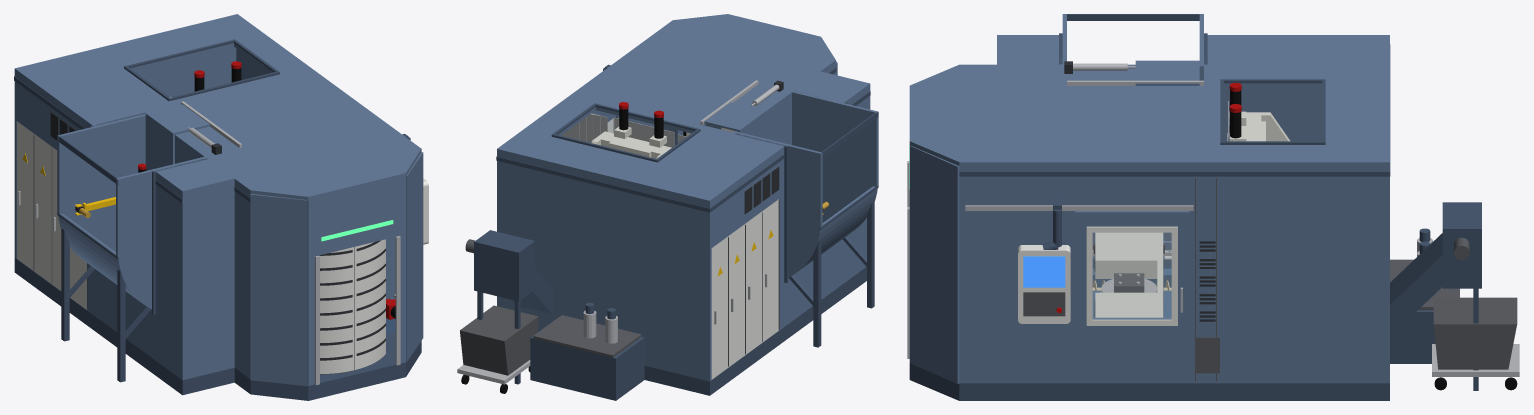
File: clock800evo_fms_4ax_blue.glb
3 views of the same model, side by side, from view 1: azimuth 30°, elevation 25°; view 2: azimuth 150°, elevation 25°; view 3: azimuth 270°, elevation 25° (orthographic). The views are drawn at different scales.
Visible parts, largest first — view 1: enclosure__mcm_blue, apc_housing__mcm_blue, tc_box__mcm_blue, electrical_cabinet__evo_white, enclosure__mcm_blue_dk, apc_door_left__evo_white, apc_housing__mcm_blue_dk, apc_door_right__evo_white, tc_box__mcm_blue_dk, tc_door__mcm_blue, apc_housing__steel, apc_door_left__anthracite (+5 smaller); view 2: enclosure__mcm_blue, tc_box__mcm_blue, chip_coolant__mcm_blue_dk, electrical_cabinet__evo_white, enclosure__mcm_blue_dk, apc_housing__mcm_blue, chip_cart__steel_dark, tc_box__mcm_blue_dk, chip_coolant__anthracite_lt, tc_door__mcm_blue, column__struct_grey, enclosure__anthracite (+6 smaller); view 3: enclosure__mcm_blue, apc_housing__mcm_blue, enclosure__mcm_blue_dk, chip_coolant__mcm_blue_dk, operator_door__glass_clear, operator_door__mcm_blue, chip_cart__steel_dark, table__struct_grey, operator_door__evo_white, enclosure__steel, cnc_panel__evo_white, apc_housing__mcm_blue_dk (+13 smaller).
Part boxes in pixels (x1=…): enclosure__mcm_blue: x1=14, y1=14, x2=404, y2=380; apc_housing__mcm_blue: x1=234, y1=137, x2=423, y2=386; tc_box__mcm_blue: x1=57, y1=114, x2=205, y2=309; electrical_cabinet__evo_white: x1=17, y1=121, x2=87, y2=309; enclosure__mcm_blue_dk: x1=14, y1=39, x2=279, y2=395; apc_door_left__evo_white: x1=320, y1=247, x2=354, y2=373; apc_housing__mcm_blue_dk: x1=234, y1=187, x2=421, y2=400; apc_door_right__evo_white: x1=354, y1=239, x2=385, y2=369; tc_box__mcm_blue_dk: x1=57, y1=135, x2=151, y2=382; tc_door__mcm_blue: x1=145, y1=104, x2=210, y2=170; apc_housing__steel: x1=315, y1=236, x2=400, y2=385; apc_door_left__anthracite: x1=319, y1=250, x2=352, y2=360; enclosure__mcm_blue: x1=497, y1=31, x2=870, y2=381; tc_box__mcm_blue: x1=736, y1=91, x2=878, y2=277; chip_coolant__mcm_blue_dk: x1=474, y1=230, x2=644, y2=400; electrical_cabinet__evo_white: x1=711, y1=199, x2=778, y2=379; enclosure__mcm_blue_dk: x1=496, y1=91, x2=870, y2=395; apc_housing__mcm_blue: x1=657, y1=14, x2=837, y2=135; chip_cart__steel_dark: x1=460, y1=305, x2=538, y2=375; tc_box__mcm_blue_dk: x1=789, y1=112, x2=878, y2=347; chip_coolant__anthracite_lt: x1=533, y1=315, x2=641, y2=357; tc_door__mcm_blue: x1=704, y1=102, x2=766, y2=138; column__struct_grey: x1=591, y1=126, x2=671, y2=158; enclosure__anthracite: x1=744, y1=80, x2=783, y2=214; enclosure__mcm_blue: x1=997, y1=35, x2=1389, y2=383; apc_housing__mcm_blue: x1=909, y1=64, x2=996, y2=383; enclosure__mcm_blue_dk: x1=997, y1=33, x2=1390, y2=400; chip_coolant__mcm_blue_dk: x1=1390, y1=202, x2=1481, y2=390; operator_door__glass_clear: x1=1093, y1=233, x2=1170, y2=318; operator_door__mcm_blue: x1=1075, y1=211, x2=1189, y2=339; chip_cart__steel_dark: x1=1433, y1=297, x2=1517, y2=369; table__struct_grey: x1=1095, y1=232, x2=1163, y2=317; operator_door__evo_white: x1=1086, y1=226, x2=1177, y2=325; enclosure__steel: x1=965, y1=63, x2=1203, y2=210; cnc_panel__evo_white: x1=1018, y1=245, x2=1070, y2=323; apc_housing__mcm_blue_dk: x1=909, y1=171, x2=996, y2=400.
Bounding box in the file's own units: 4.52 × 3.22 × 6.98.
